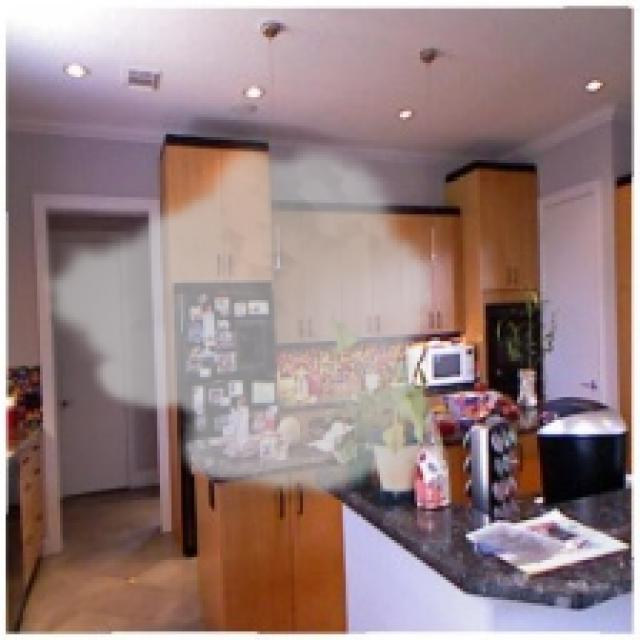smoke: (34, 134, 440, 500)
